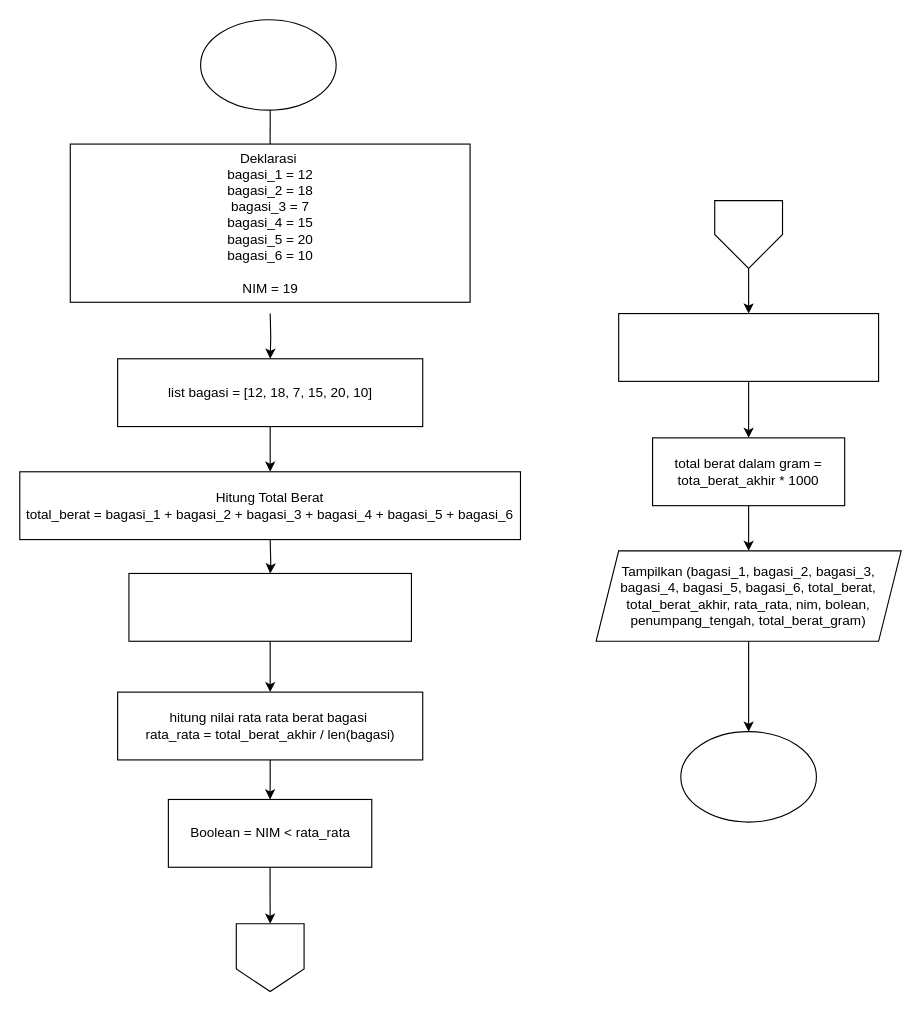
This 921x1011 diagram has some shape labels left out. Each missing label, with the box of its shape:
Hitung Total berat + kompensasi total_berat_akhir = total_berat * 5 / 100: (128, 572, 411, 641)
mulai: (199, 19, 336, 110)
penumpang_tengah = bagasi[2:5]: (618, 312, 879, 381)
selesai: (680, 731, 816, 822)
